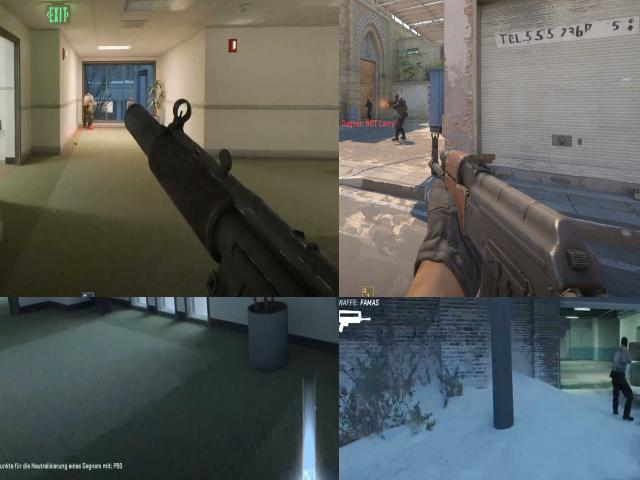CT: (394, 93, 407, 139), (366, 98, 372, 120)
CT-Head: (394, 94, 400, 102), (367, 98, 370, 102)
T: (612, 344, 628, 383), (82, 86, 95, 112)
T-Head: (618, 336, 629, 352)
